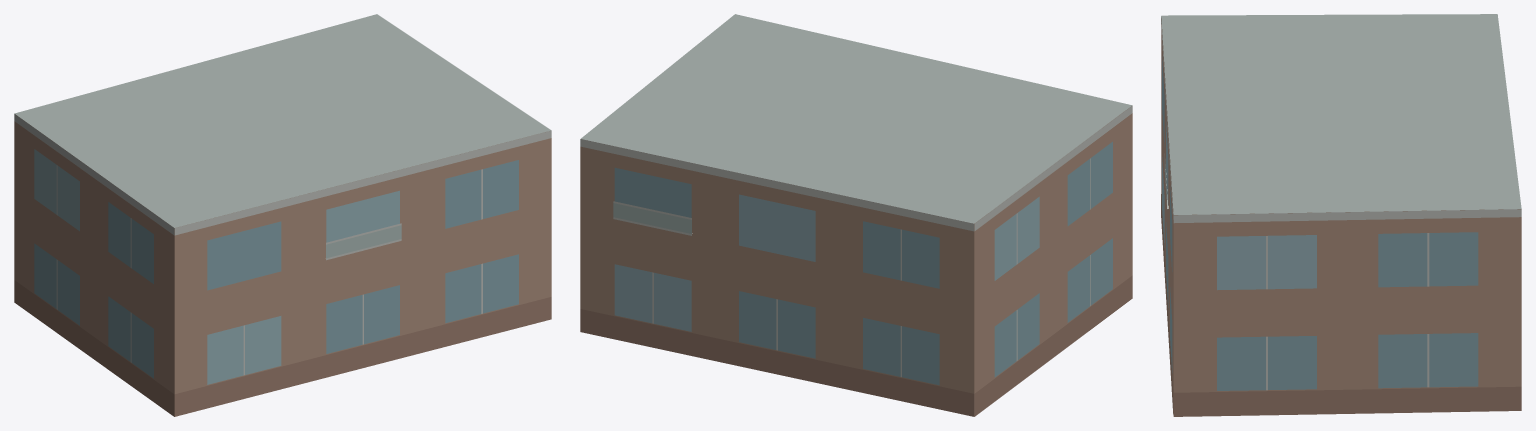
File: survey-upis-32495586.glb
3 views of the same model, side by side, from view 1: azimuth 30°, elevation 25°; view 2: azimuth 150°, elevation 25°; view 3: azimuth 270°, elevation 25° (orthographic). The views are drawn at different scales.
Parts seen in each view (by area): view 1: survey-upis-32495586.tmp; view 2: survey-upis-32495586.tmp; view 3: survey-upis-32495586.tmp.
Part boxes in pixels (<box>): survey-upis-32495586.tmp: <box>14,14,551,416</box>; survey-upis-32495586.tmp: <box>580,14,1132,416</box>; survey-upis-32495586.tmp: <box>1161,14,1521,416</box>.
Bounding box in the file's own units: 13.05 × 6.1 × 9.89.
